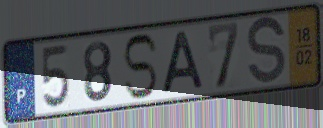5: (40, 43, 72, 111)
7: (206, 20, 241, 93)
8: (82, 39, 114, 105)
A: (160, 28, 206, 96)
S: (245, 14, 288, 90), (121, 32, 160, 102)
